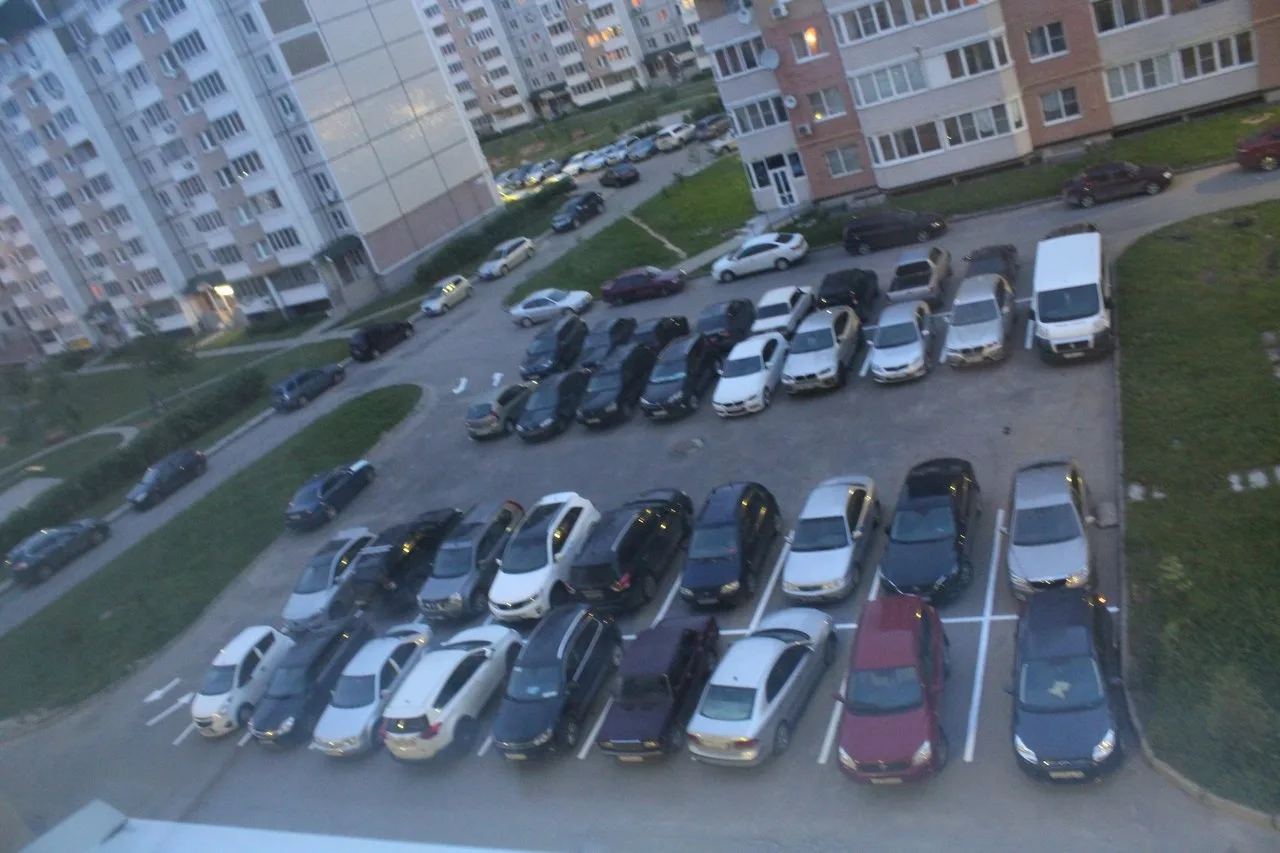Car: (686, 608, 838, 768), (1010, 588, 1126, 783), (834, 594, 951, 786), (490, 603, 623, 764), (380, 624, 524, 763), (598, 615, 720, 762), (248, 615, 377, 748), (311, 622, 431, 759), (567, 488, 694, 614), (487, 491, 600, 624), (880, 456, 981, 604), (417, 499, 524, 623), (780, 474, 882, 604), (680, 481, 782, 609), (1004, 459, 1097, 599), (348, 507, 463, 616), (190, 625, 293, 739), (1030, 229, 1114, 364), (282, 527, 377, 635), (781, 306, 862, 395), (6, 519, 112, 587), (942, 271, 1015, 368), (577, 341, 654, 430), (640, 333, 717, 421), (285, 460, 376, 532), (711, 333, 787, 419), (867, 301, 935, 385), (514, 369, 589, 443), (1063, 161, 1176, 209), (711, 230, 809, 284), (127, 449, 209, 512), (842, 208, 948, 255), (519, 314, 588, 381), (886, 245, 952, 307), (465, 382, 534, 441), (272, 363, 346, 413), (815, 267, 881, 322), (508, 288, 594, 328), (601, 266, 686, 306), (577, 316, 637, 371), (751, 285, 814, 337), (694, 298, 755, 350), (348, 318, 416, 363), (477, 236, 538, 281), (964, 242, 1021, 287), (631, 314, 691, 356), (418, 274, 473, 318), (1234, 120, 1280, 172), (550, 191, 604, 234), (655, 121, 697, 153), (599, 163, 640, 189), (1045, 221, 1100, 239), (608, 134, 639, 165), (526, 159, 559, 185), (628, 135, 658, 163), (562, 150, 592, 177), (697, 113, 728, 139), (536, 173, 578, 191), (585, 146, 613, 172), (710, 129, 737, 155), (494, 169, 528, 189), (498, 188, 521, 203)
